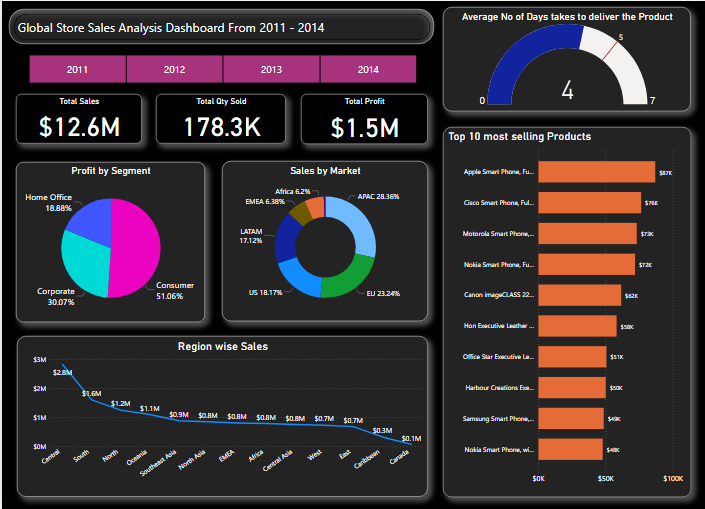

What the dashboard file says about the page in this screenshot:
{"tool":"powerbi","page":{"name":"Page 1","canvas":[1450,1048],"ordinal":0},"visuals":[{"type":"card","title":"Total Sales","fields":{"Values":["Sum(Orders.Sales)"]},"box":[29.6,191.3,259.3,102.2],"z":0},{"type":"card","title":"Total Qty Sold","fields":{"Values":["Sum(Orders.Quantity)"]},"box":[316.5,191.3,267.2,102.2],"z":1000},{"type":"card","title":"Total Profit","fields":{"Values":["Sum(Orders.Profit)"]},"box":[615.2,191.3,261.3,102.5],"z":2000},{"type":"slicer","fields":{"Values":["Orders.Year"]},"box":[30.9,105,846.2,70],"z":3000},{"type":"pieChart","fields":{"Y":["Sum(Orders.Profit)"],"Category":["Orders.Segment"]},"box":[29.6,330.6,389,330.1],"z":4000},{"type":"shape","box":[14.4,16.5,875,72.1],"z":5000},{"type":"clusteredBarChart","title":"Top 10 most selling Products","fields":{"Category":["Orders.Product Name"],"Y":["Sum(Orders.Sales)"]},"box":[908,259.4,510.6,761.8],"z":6000},{"type":"donutChart","fields":{"Category":["Orders.Market"],"Y":["Sum(Orders.Sales)"]},"box":[452.4,329.8,424.1,329.6],"z":7000},{"type":"gauge","title":"Average No of Days takes to deliver the Product","fields":{"Y":["Avg(Orders.Delivery Days)"]},"box":[908.4,12.1,510.5,215.1],"z":8000},{"type":"lineChart","title":"Region wise Sales","fields":{"Category":["Orders.Region"],"Y":["Sum(Orders.Sales)"]},"box":[30.9,689.7,846.2,331.5],"z":9000}]}

Visuals, with their boxes in screenshot pixels (x1, y1, x2, y2), scaled from the page's 1450x1048 canvas onto the 705x509 screenshot:
"Total Sales" card: {"x1": 14, "y1": 93, "x2": 140, "y2": 143}
"Total Qty Sold" card: {"x1": 154, "y1": 93, "x2": 284, "y2": 143}
"Total Profit" card: {"x1": 299, "y1": 93, "x2": 426, "y2": 143}
slicer - Orders.Year: {"x1": 15, "y1": 51, "x2": 426, "y2": 85}
pieChart - Sum(Orders.Profit) x Orders.Segment: {"x1": 14, "y1": 161, "x2": 204, "y2": 321}
shape: {"x1": 7, "y1": 8, "x2": 432, "y2": 43}
"Top 10 most selling Products" clusteredBarChart: {"x1": 441, "y1": 126, "x2": 690, "y2": 496}
donutChart - Orders.Market x Sum(Orders.Sales): {"x1": 220, "y1": 160, "x2": 426, "y2": 320}
"Average No of Days takes to deliver the Product" gauge: {"x1": 442, "y1": 6, "x2": 690, "y2": 110}
"Region wise Sales" lineChart: {"x1": 15, "y1": 335, "x2": 426, "y2": 496}
